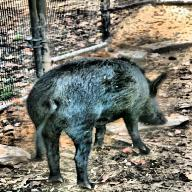boar: (26, 57, 168, 189)
